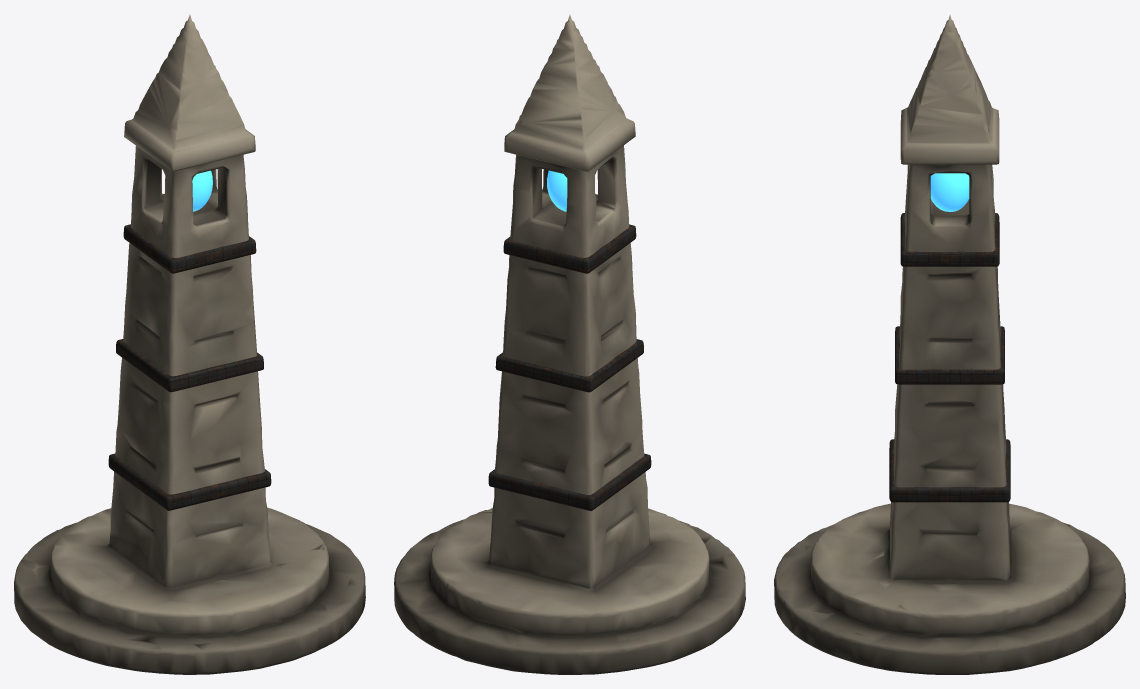
File: needle_inner.glb
3 renders of one model, left to right at view 1: azimuth 30°, elevation 25°; view 2: azimuth 150°, elevation 25°; view 3: azimuth 270°, elevation 25°, orthographic.
Parts seen in each view (by area): view 1: needle_inner_stone, needle_inner_ironstone, needle_inner_accent; view 2: needle_inner_stone, needle_inner_ironstone, needle_inner_accent; view 3: needle_inner_stone, needle_inner_ironstone, needle_inner_accent.
Boxes of the visible parts, bbox=[...] form: needle_inner_stone: bbox=[14, 14, 365, 674]; needle_inner_ironstone: bbox=[108, 224, 271, 510]; needle_inner_accent: bbox=[192, 170, 212, 211]; needle_inner_stone: bbox=[394, 14, 745, 674]; needle_inner_ironstone: bbox=[488, 224, 651, 510]; needle_inner_accent: bbox=[547, 170, 567, 211]; needle_inner_stone: bbox=[774, 14, 1125, 674]; needle_inner_ironstone: bbox=[889, 213, 1010, 502]; needle_inner_accent: bbox=[930, 173, 969, 211].
Bounding box in the file's own units: 4.06 × 7.49 × 4.06.
3 materials, 2 textured.
